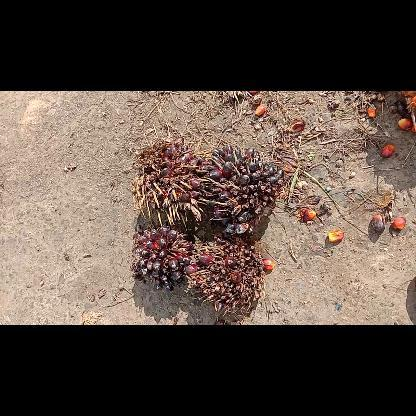TBS abnormal: (203, 144, 283, 235), (133, 136, 207, 226), (184, 233, 262, 313), (130, 224, 192, 288)
